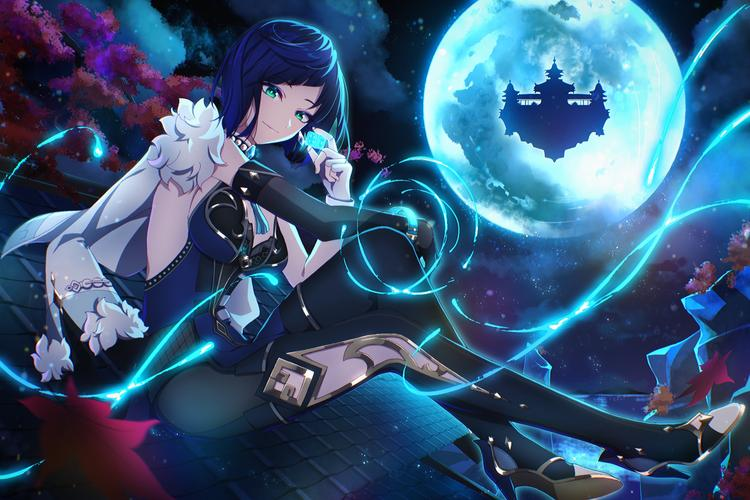夜兰: (141, 17, 744, 498)
